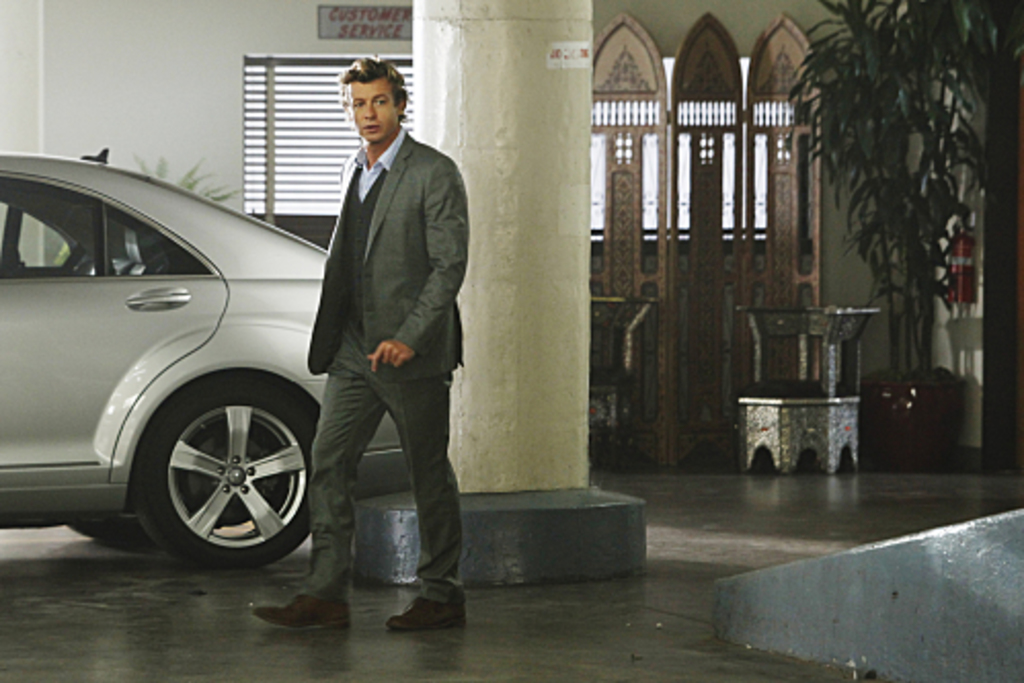Car: (0, 145, 414, 572)
